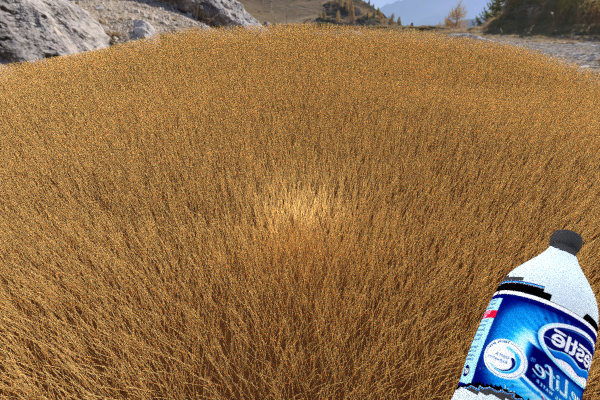bottle: (416, 229, 598, 400)
can: (579, 145, 600, 210)
